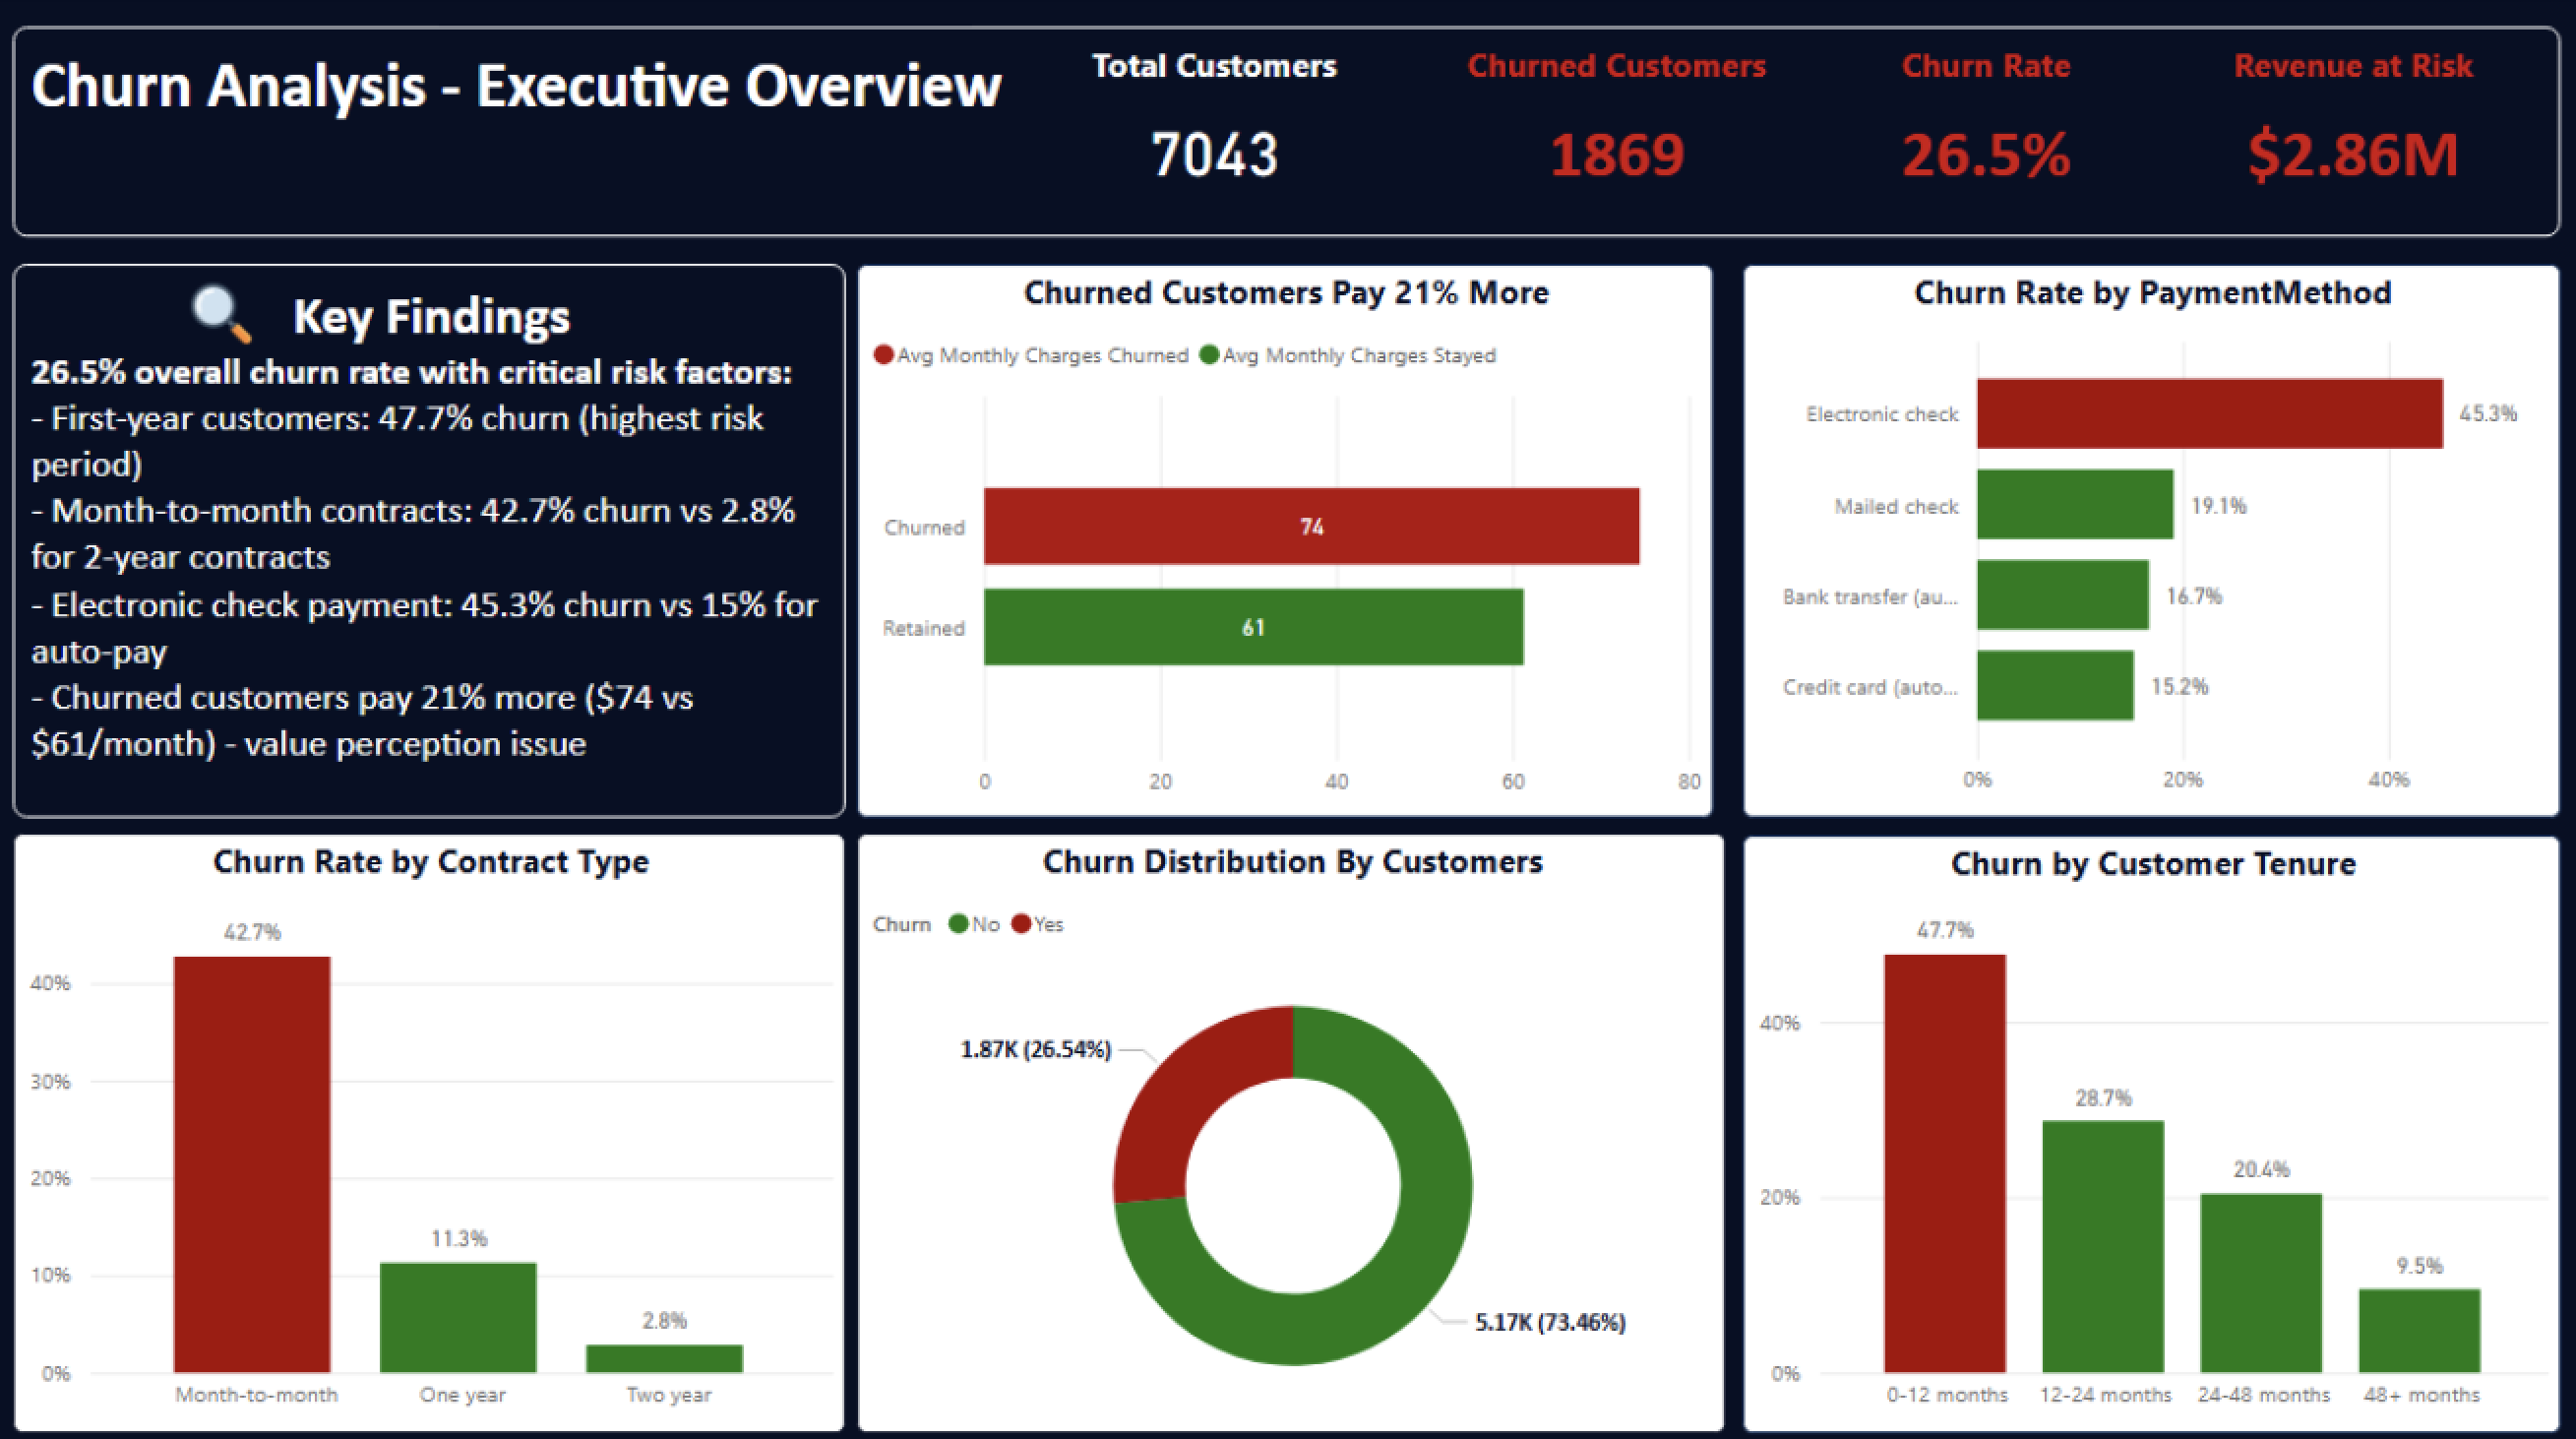

This screenshot's page, from the dashboard's own definition file:
{"tool":"powerbi","page":{"name":"Executive Overview","canvas":[1280,720],"ordinal":0},"visuals":[{"type":"textbox","box":[11.4,17.6,1260.3,103.8],"z":0},{"type":"card","title":"Total Customers","fields":{"Values":["Customer_Churn_Analyzed.Total Customers"]},"box":[524.2,26,163,87.2],"z":1000},{"type":"card","title":"Churned Customers","fields":{"Values":["Customer_Churn_Analyzed.Churned Customers"]},"box":[720.5,26,168.2,87.2],"z":2000},{"type":"card","title":"Churn Rate","fields":{"Values":["Customer_Churn_Analyzed.Churn Rate"]},"box":[903.2,26,168.2,87.2],"z":3000},{"type":"card","title":"Revenue at Risk","fields":{"Values":["Customer_Churn_Analyzed.Revenue at Risk"]},"box":[1084.8,26,168.2,87.2],"z":4000},{"type":"donutChart","title":"Churn Distribution By Customers ","fields":{"Category":["Customer_Churn_Analyzed.Churn"],"Y":["CountNonNull(Customer_Churn_Analyzed.customerID)"]},"box":[428.7,416.3,429.8,296.9],"z":5000},{"type":"clusteredColumnChart","title":"Churn by Customer Tenure ","fields":{"Category":["Customer_Churn_Analyzed.tenure_group"],"Y":["Customer_Churn_Analyzed.Churn Rate"]},"box":[866.8,417.3,404.9,295.9],"z":6000},{"type":"barChart","title":"Churned Customers Pay 21% More ","fields":{"Y":["Customer_Churn_Analyzed.Avg Monthly Charges Churned","Customer_Churn_Analyzed.Avg Monthly Charges Stayed"],"Category":["Customer_Churn_Analyzed.Churn Status"]},"box":[428.7,135,423.6,274.1],"z":7000},{"type":"textbox","box":[11.4,135,412.1,274.1],"z":8000},{"type":"clusteredColumnChart","title":"Churn Rate by Contract Type","fields":{"Category":["Customer_Churn_Analyzed.Contract"],"Y":["Customer_Churn_Analyzed.Churn Rate"]},"box":[11.4,416.3,412.1,296.9],"z":9000},{"type":"clusteredBarChart","fields":{"Y":["Customer_Churn_Analyzed.Churn Rate"],"Category":["Customer_Churn_Analyzed.PaymentMethod"]},"box":[866.8,135,404.9,274.1],"z":10000},{"type":"image","box":[94.5,94.5,40.5,129.8],"z":10001}]}

Visuals, with their boxes in screenshot pixels (x1, y1, x2, y2), scaled from the page's 1280x720 canvas onto the 2576x1439 screenshot:
textbox: BBox(23, 35, 2559, 243)
"Total Customers" card: BBox(1055, 52, 1383, 226)
"Churned Customers" card: BBox(1450, 52, 1789, 226)
"Churn Rate" card: BBox(1817, 52, 2156, 226)
"Revenue at Risk" card: BBox(2183, 52, 2522, 226)
"Churn Distribution By Customers " donutChart: BBox(863, 832, 1728, 1425)
"Churn by Customer Tenure " clusteredColumnChart: BBox(1745, 834, 2559, 1425)
"Churned Customers Pay 21% More " barChart: BBox(863, 270, 1715, 818)
textbox: BBox(23, 270, 852, 818)
"Churn Rate by Contract Type" clusteredColumnChart: BBox(23, 832, 852, 1425)
clusteredBarChart - Customer_Churn_Analyzed.Churn Rate x Customer_Churn_Analyzed.PaymentMethod: BBox(1745, 270, 2559, 818)
image: BBox(190, 189, 272, 448)
